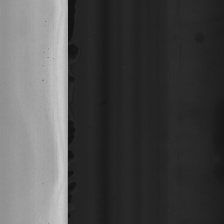inclusion: (43, 45, 50, 61), (41, 75, 46, 85), (43, 17, 47, 28)
